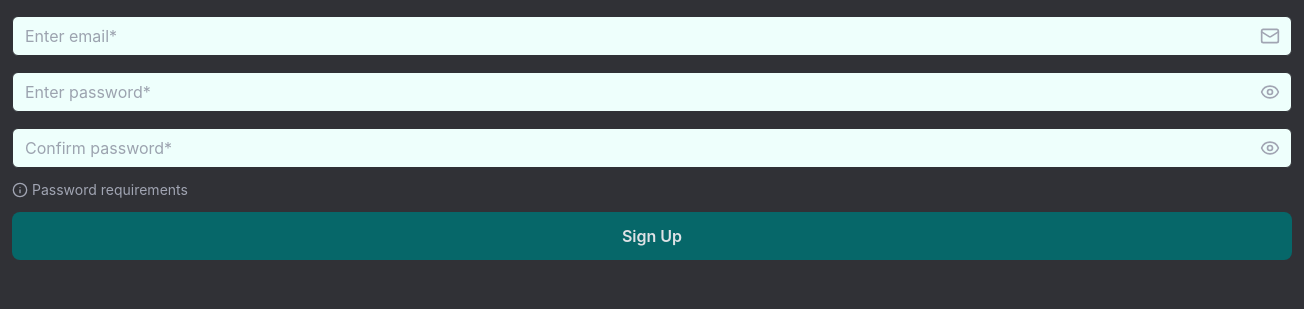
AuthForm Component › shows confirm password validation error if passwords do not match
In the password field with placeholder "Enter password*": (652, 92) [12,72,1292,112], type "ValidPass1!"
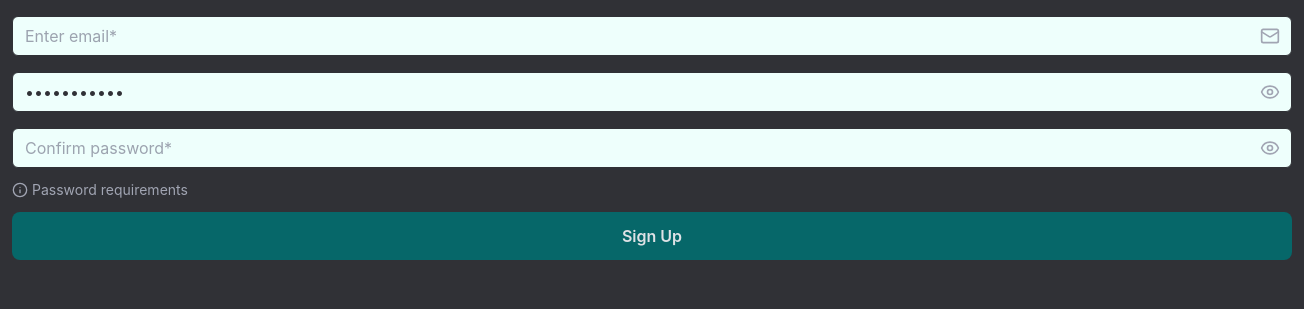
In the password field with placeholder "Confirm password*": (652, 148) [12,128,1292,168], type "InvalidPass2!"
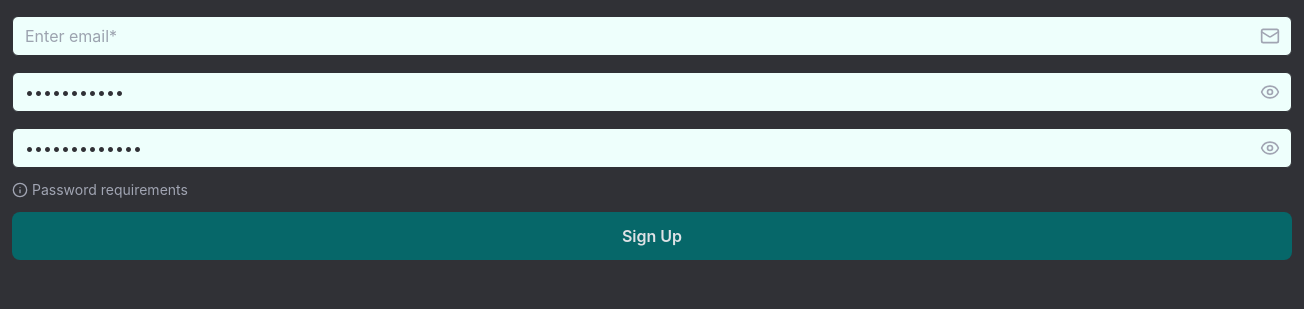
Leave the 2nd password field with placeholder "Confirm password*", box [12,128,1292,168]
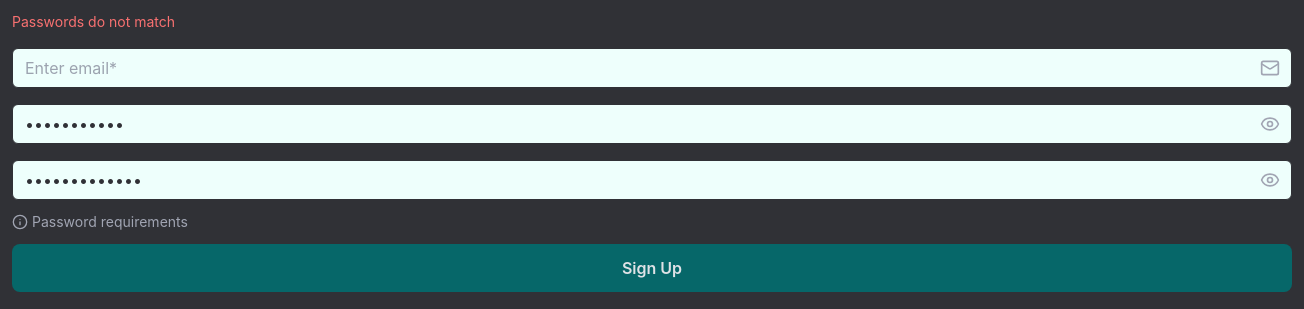
Expected: the text "Passwords do not match" is shown, [12,13,175,30]
